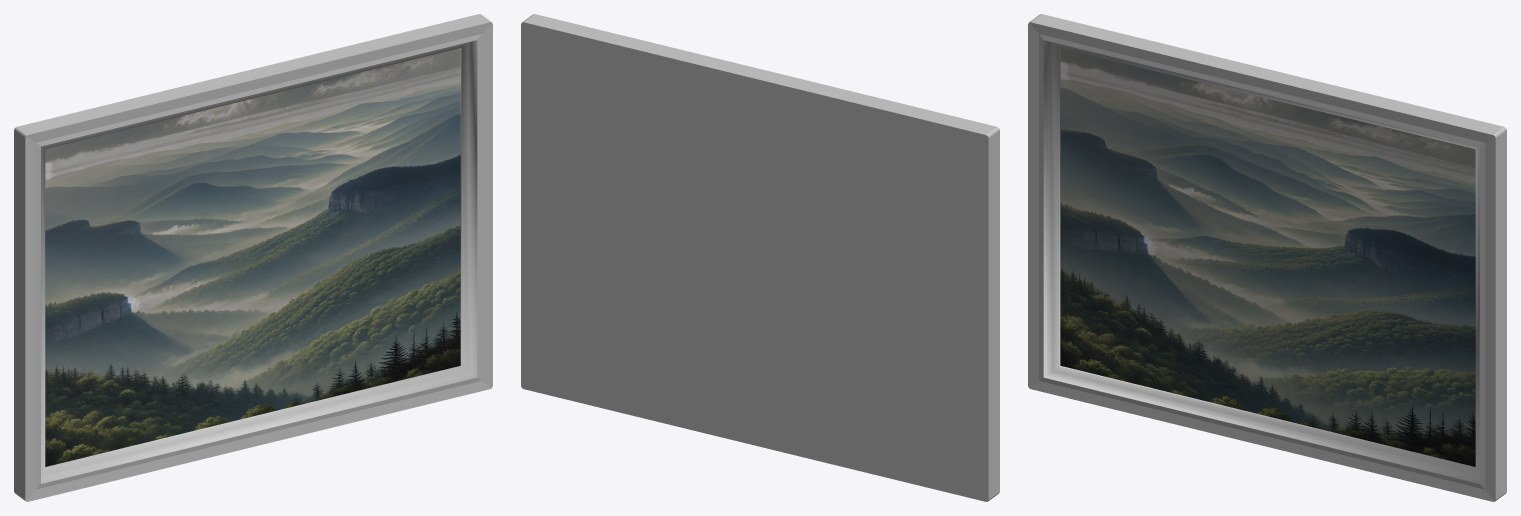
The model's file is painting2.fbx.
3 renders of one model, left to right at view 1: azimuth 30°, elevation 25°; view 2: azimuth 150°, elevation 25°; view 3: azimuth 330°, elevation 25°, orthographic.
Visible parts, largest first — view 1: painting2; view 2: painting2; view 3: painting2.
Boxes of the visible parts, <box> form: painting2: <box>14,14,492,501</box>; painting2: <box>521,14,999,501</box>; painting2: <box>1028,14,1506,501</box>.
Bounding box in the file's own units: 120 × 90 × 5.
